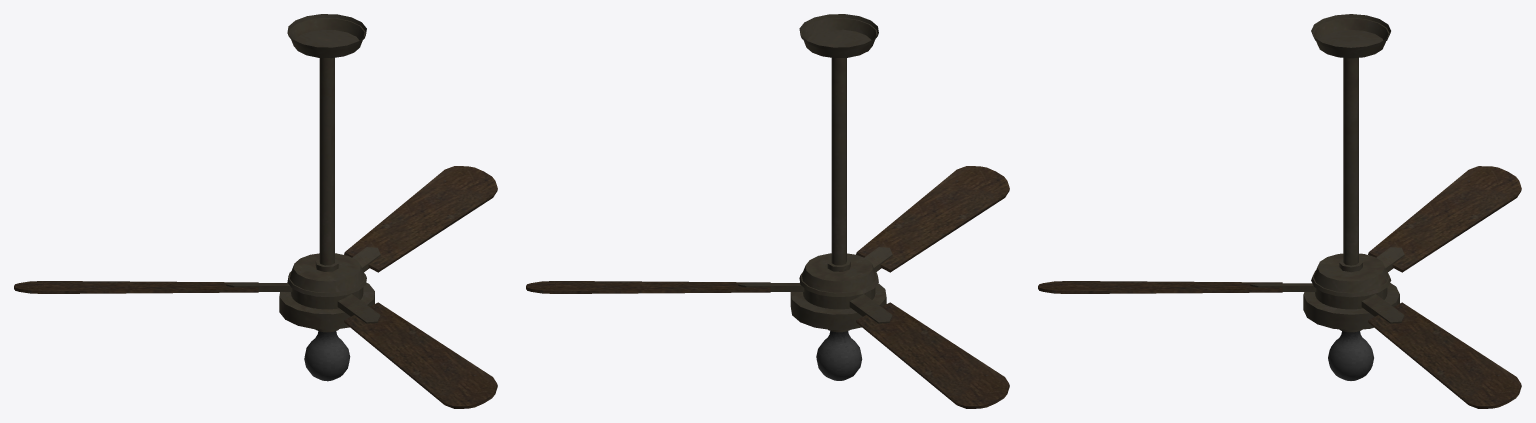
Rendered from ceiling_fan_mp_1_1_light_off.obj.
3 renders of one model, left to right at view 1: azimuth 30°, elevation 25°; view 2: azimuth 150°, elevation 25°; view 3: azimuth 270°, elevation 25°, orthographic.
Visible parts, largest first — view 1: ceiling_fan_mp_1_1_light_off_blades, ceiling_fan_mp_1_1_light_off; view 2: ceiling_fan_mp_1_1_light_off_blades, ceiling_fan_mp_1_1_light_off; view 3: ceiling_fan_mp_1_1_light_off_blades, ceiling_fan_mp_1_1_light_off.
Part boxes in pixels (x1,y1,x2,y2): ceiling_fan_mp_1_1_light_off_blades: (14, 166, 497, 408); ceiling_fan_mp_1_1_light_off: (279, 14, 374, 381); ceiling_fan_mp_1_1_light_off_blades: (526, 166, 1009, 408); ceiling_fan_mp_1_1_light_off: (790, 14, 886, 380); ceiling_fan_mp_1_1_light_off_blades: (1038, 166, 1521, 408); ceiling_fan_mp_1_1_light_off: (1303, 14, 1399, 380).
Size of the model in its own units: 1.02 by 0.7128 by 0.8979.
